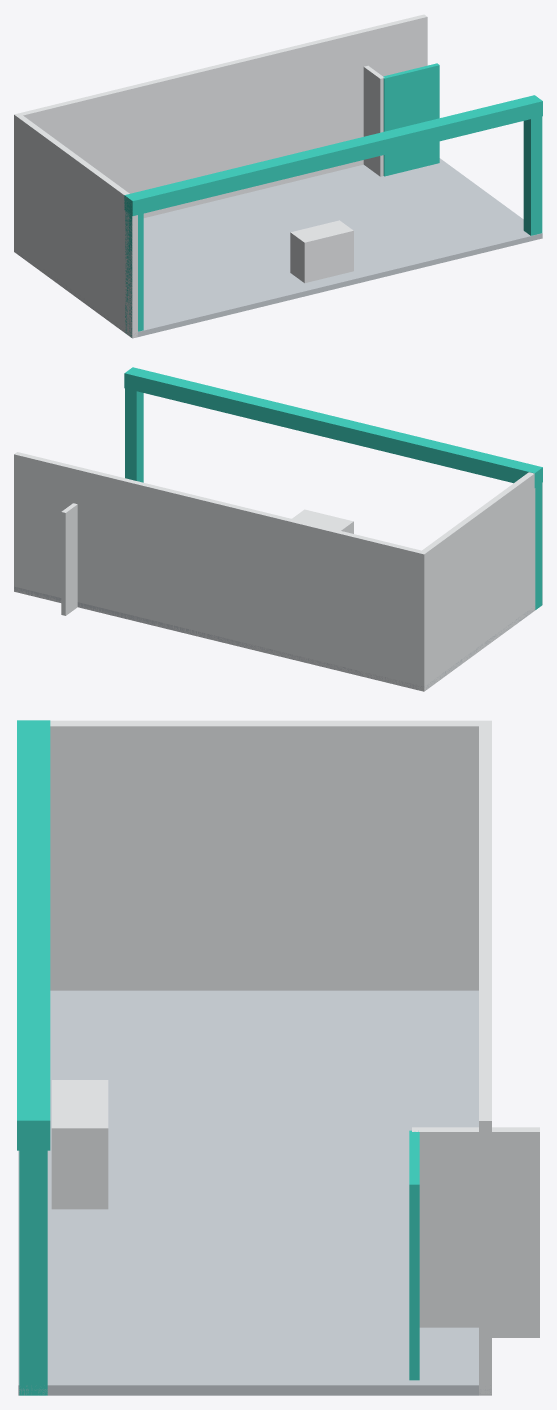
3 renders of one model, top to bottom at view 1: azimuth 30°, elevation 25°; view 2: azimuth 150°, elevation 25°; view 3: azimuth 270°, elevation 25°, orthographic. The views are drawn at different scales.
Visible parts, largest first — view 1: Exhibition Booth Concept; view 2: Exhibition Booth Concept; view 3: Exhibition Booth Concept.
Part boxes in pixels (x1,y1,x2,y2): Exhibition Booth Concept: (14,14,542,338); Exhibition Booth Concept: (14,367,542,691); Exhibition Booth Concept: (17,720,539,1395).
Bounding box in the file's own units: 10 × 3.2 × 5.52.
